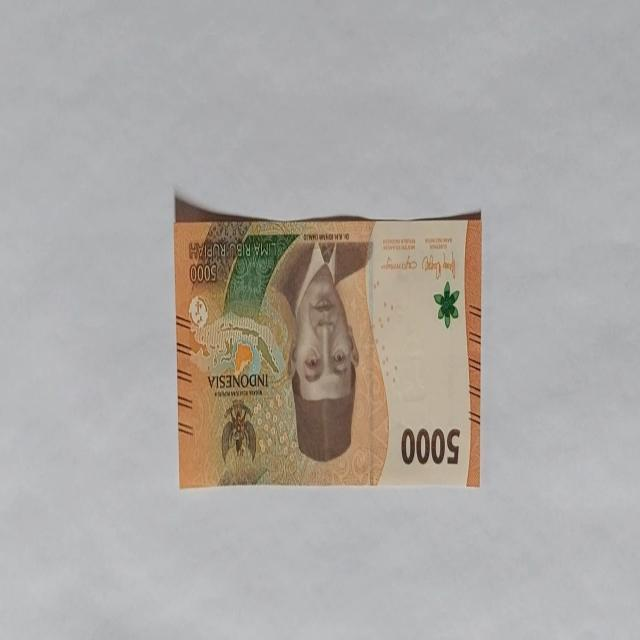lima ribu rupiah: (174, 195, 482, 489), (278, 240, 362, 463)
